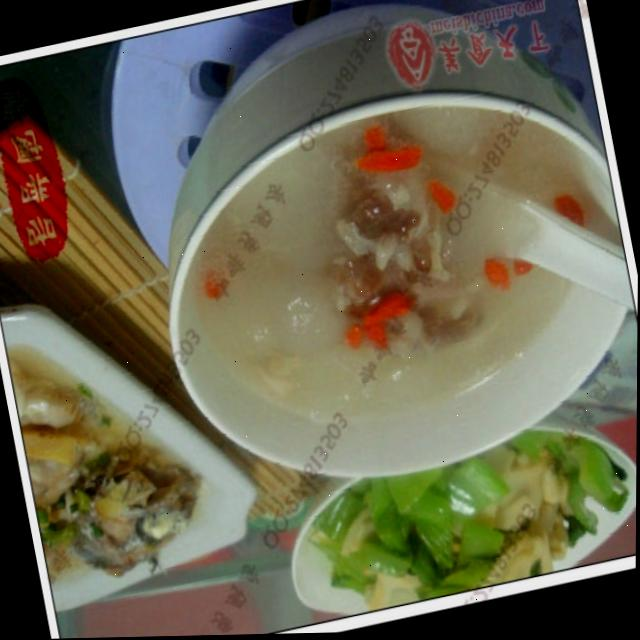汤锅炖物: (108, 14, 640, 557)
